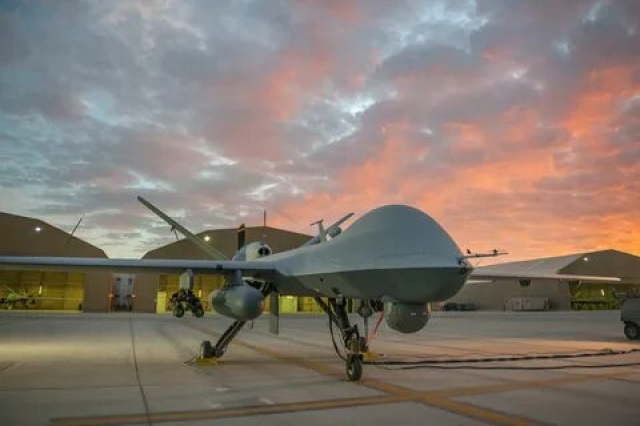military drone: (0, 195, 620, 380)
